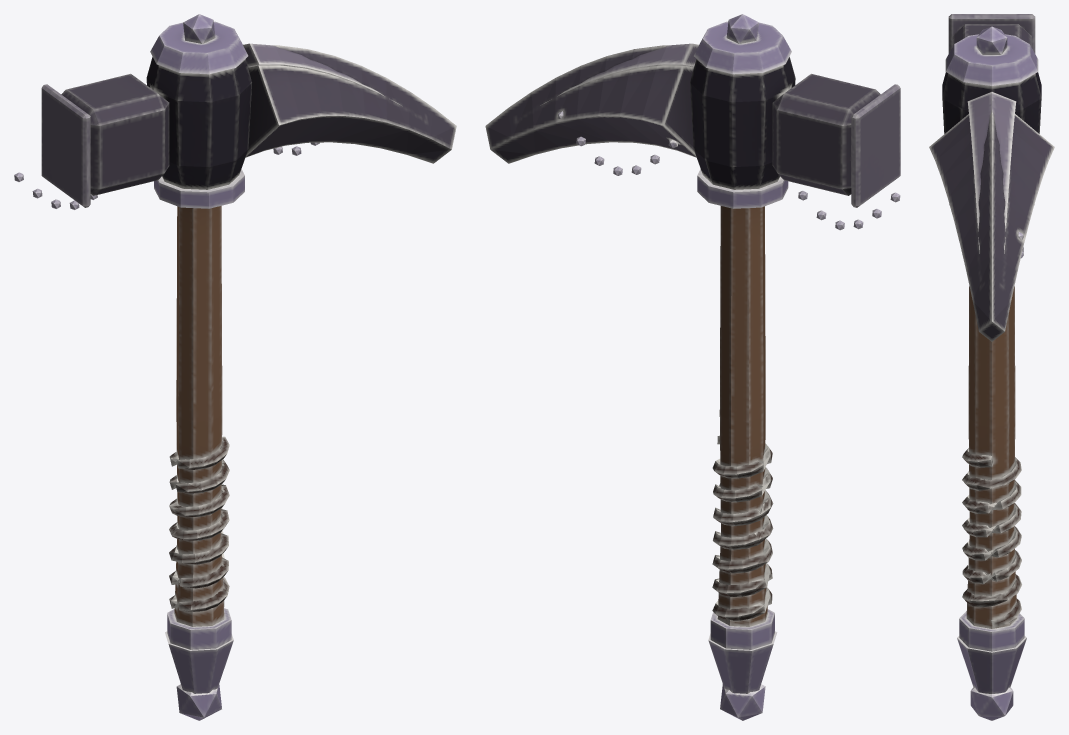
File: AshcoalPickaxe.glb
The picture shows the model from 3 angles, left to right: view 1: azimuth 30°, elevation 25°; view 2: azimuth 150°, elevation 25°; view 3: azimuth 270°, elevation 25°; orthographic projection.
Visible parts, largest first — view 1: Body__Tex; view 2: Body__Tex; view 3: Body__Tex.
Part boxes in pixels (left/top/right/bottom): Body__Tex: left=14, top=14, right=456, bottom=720; Body__Tex: left=485, top=14, right=900, bottom=720; Body__Tex: left=929, top=14, right=1054, bottom=720.
Bounding box in the file's own units: 2.7 × 4.26 × 0.7.
Materials: 1 (1 with a texture image).
